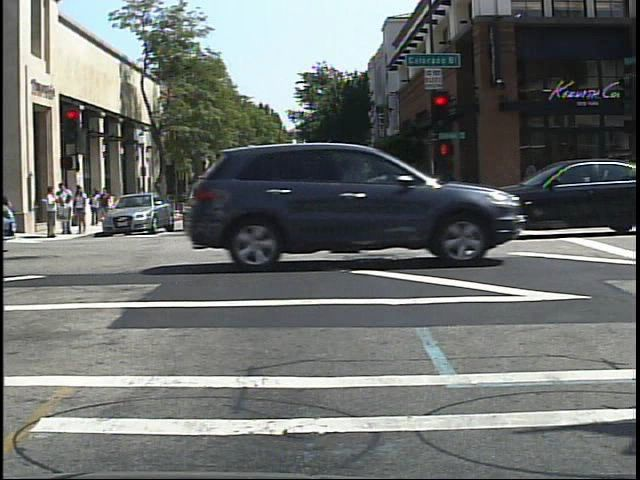person: (88, 185, 104, 228), (164, 181, 181, 218), (135, 182, 153, 216)
